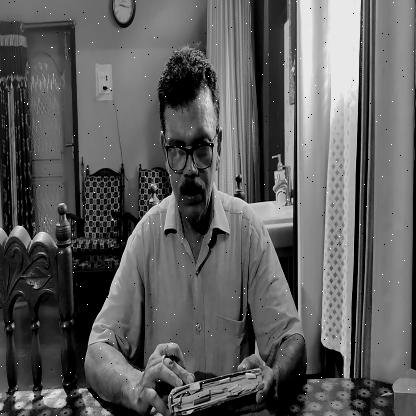Normal: (156, 52, 218, 225)
